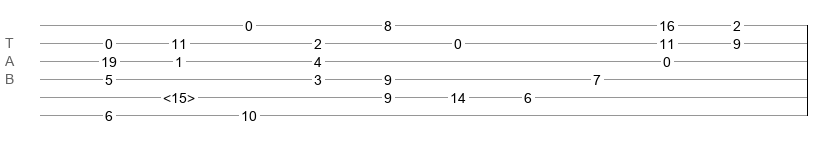0: (105, 36, 113, 46), (245, 18, 253, 28), (454, 36, 462, 46), (663, 54, 671, 64)
1: (175, 54, 183, 64)
10: (241, 108, 257, 118)
11: (171, 36, 187, 46), (659, 36, 675, 46)
14: (450, 90, 466, 100)
16: (659, 18, 675, 28)
19: (101, 54, 117, 64)
2: (314, 36, 322, 46), (733, 18, 741, 28)
3: (314, 72, 322, 82)
4: (314, 54, 322, 64)
5: (105, 72, 113, 82)
6: (105, 108, 113, 118), (524, 90, 532, 100)
7: (593, 72, 601, 82)
8: (384, 18, 392, 28)
9: (384, 90, 392, 100), (384, 72, 392, 82), (733, 36, 741, 46)
harmonic: (163, 90, 195, 100)
